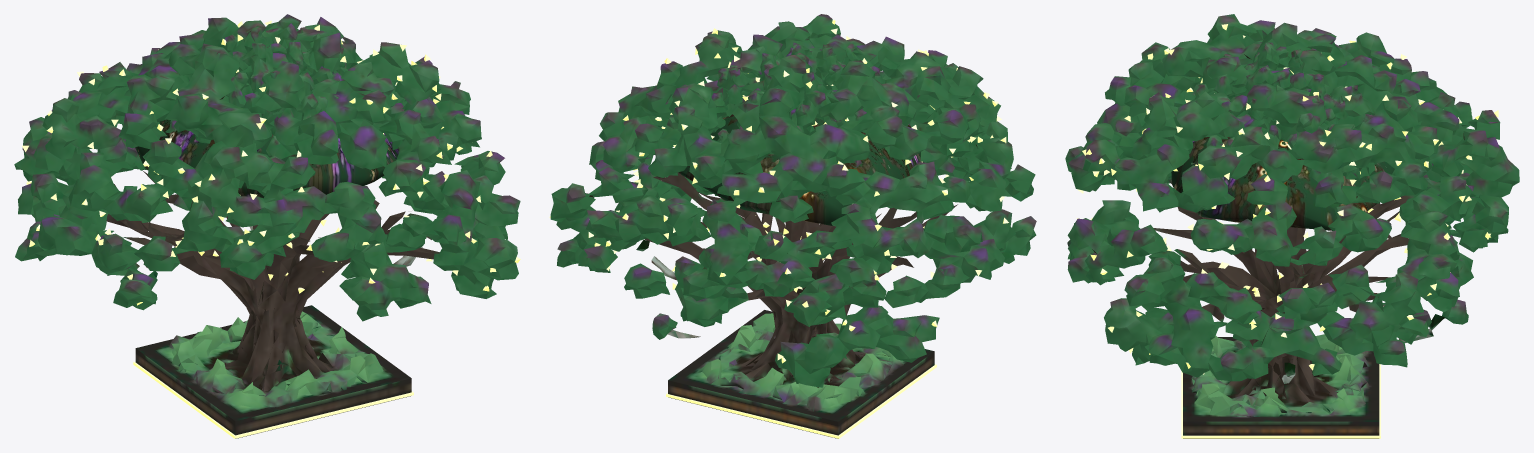
File: tree_banyan.glb
3 renders of one model, left to right at view 1: azimuth 30°, elevation 25°; view 2: azimuth 150°, elevation 25°; view 3: azimuth 270°, elevation 25°, orthographic. The views are drawn at different scales.
Visible parts, largest first — view 1: body, canopy, lights, light; view 2: body, canopy, lights, light; view 3: body, canopy, lights, light.
Boxes of the visible parts, x1,y1,x2,y2 form: body: [14, 14, 520, 438]; canopy: [135, 114, 398, 198]; lights: [22, 20, 520, 305]; light: [133, 361, 413, 438]; body: [550, 14, 1036, 438]; canopy: [678, 114, 924, 225]; lights: [549, 19, 1008, 363]; light: [666, 364, 936, 438]; body: [1065, 14, 1519, 438]; canopy: [1171, 129, 1394, 230]; lights: [1076, 24, 1498, 374]; light: [1181, 364, 1380, 438].
Bounding box in the file's own units: 12.51 × 9.82 × 11.79.
Materials: 4 (2 with a texture image).
